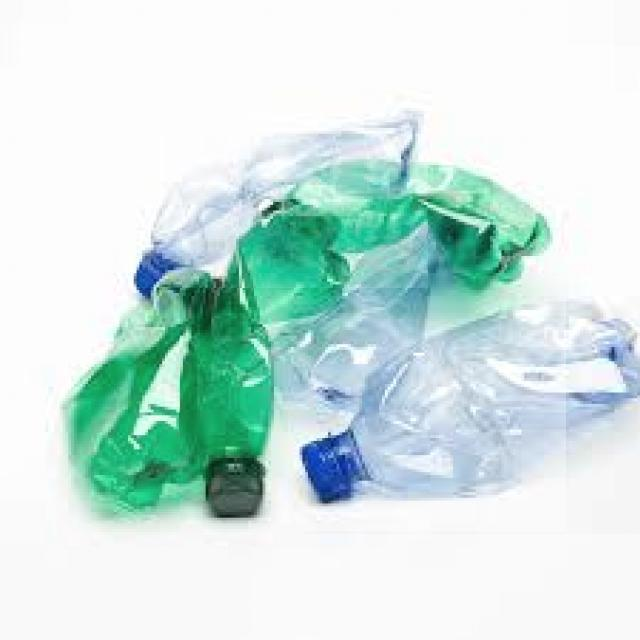defected: (122, 113, 556, 329), (303, 296, 640, 534), (7, 274, 294, 534)
